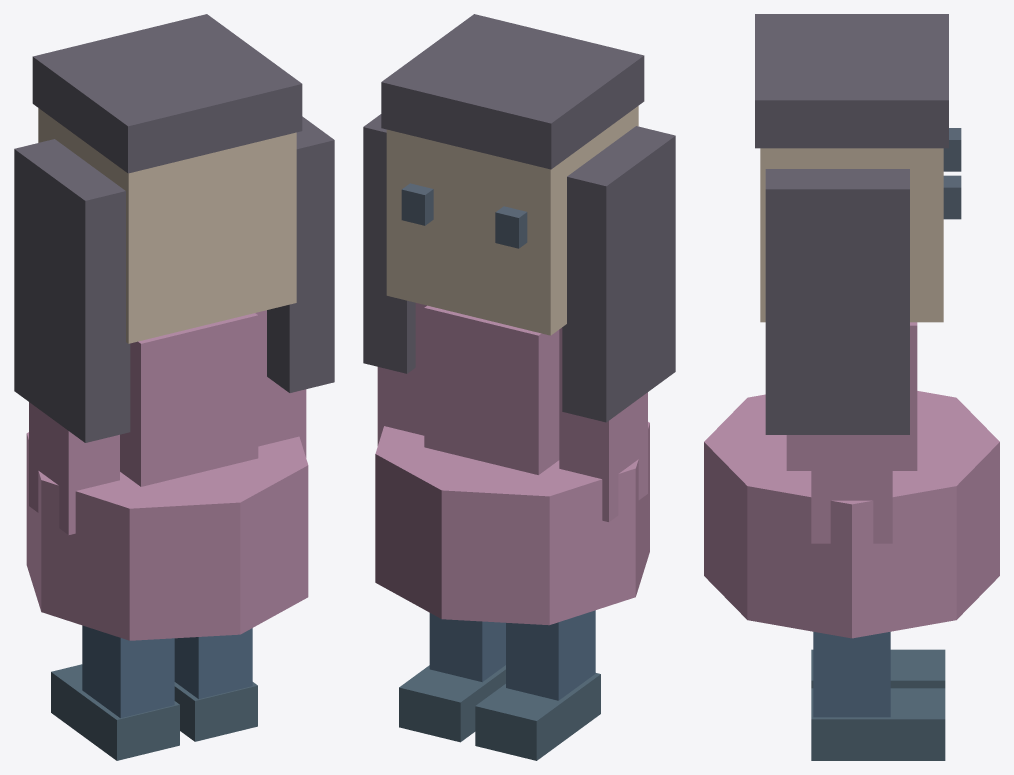
Rendered from Ivy.glb.
The picture shows the model from 3 angles, left to right: view 1: azimuth 30°, elevation 25°; view 2: azimuth 150°, elevation 25°; view 3: azimuth 270°, elevation 25°; orthographic projection. The views are drawn at different scales.
Parts seen in each view (by area): view 1: Part_02, Part_09, Part_13, Part_10, Part_00, Part_14, Part_05, Part_03, Part_07, Part_06, Part_08, Part_04; view 2: Part_02, Part_09, Part_13, Part_10, Part_00, Part_14, Part_07, Part_03, Part_05, Part_08, Part_06, Part_04 (+2 smaller); view 3: Part_02, Part_14, Part_10, Part_09, Part_08, Part_04, Part_06, Part_00, Part_07, Part_12, Part_11.
Part boxes in pixels (x1,y1,x2,y2): Part_02: [26, 432, 308, 640]; Part_09: [38, 108, 296, 343]; Part_13: [14, 139, 130, 442]; Part_10: [32, 14, 302, 173]; Part_00: [120, 313, 258, 486]; Part_14: [267, 116, 334, 392]; Part_05: [82, 625, 174, 718]; Part_03: [29, 402, 119, 534]; Part_07: [51, 664, 179, 760]; Part_06: [174, 628, 252, 699]; Part_08: [174, 682, 257, 741]; Part_04: [255, 310, 306, 457]; Part_02: [375, 422, 649, 625]; Part_09: [386, 106, 638, 335]; Part_13: [562, 126, 675, 422]; Part_10: [381, 14, 644, 169]; Part_00: [424, 305, 559, 474]; Part_14: [363, 114, 415, 373]; Part_07: [475, 673, 600, 760]; Part_03: [559, 327, 647, 521]; Part_05: [506, 610, 595, 700]; Part_08: [399, 665, 505, 742]; Part_06: [429, 613, 505, 682]; Part_04: [377, 303, 426, 445]; Part_02: [704, 391, 999, 638]; Part_14: [765, 169, 909, 434]; Part_10: [755, 14, 948, 148]; Part_09: [760, 148, 943, 322]; Part_08: [811, 688, 945, 760]; Part_04: [811, 435, 892, 543]; Part_06: [813, 631, 890, 717]; Part_00: [786, 322, 917, 470]; Part_07: [811, 649, 945, 688]; Part_12: [943, 175, 961, 219]; Part_11: [943, 128, 961, 171].
Bounding box in the file's own units: 0.84 × 2.1 × 0.84.
